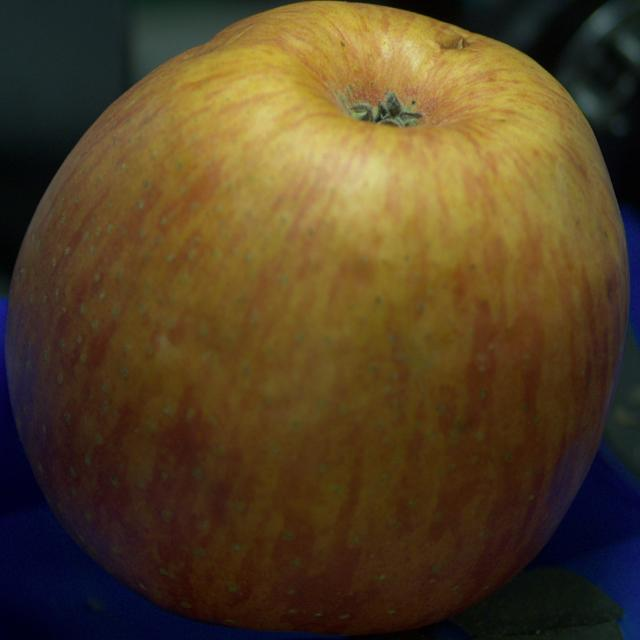apple: (5, 1, 629, 634)
bruise: (180, 24, 263, 64)
pest: (438, 29, 464, 49)
